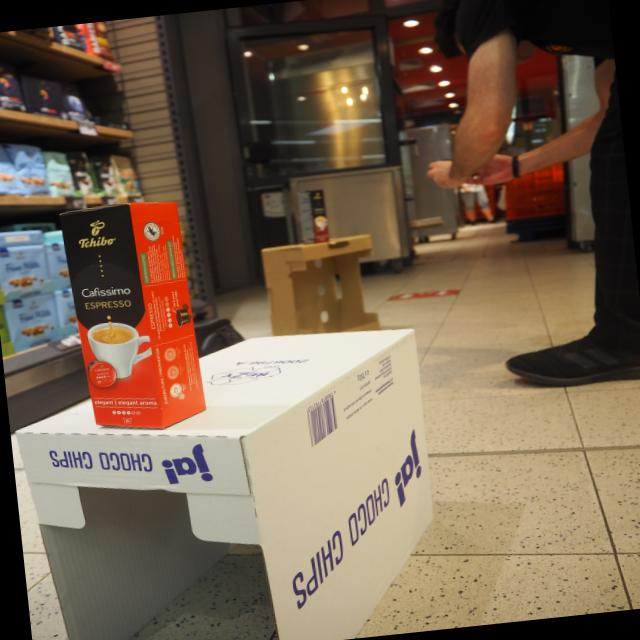Simo Es Elegant: (55, 195, 212, 431)
